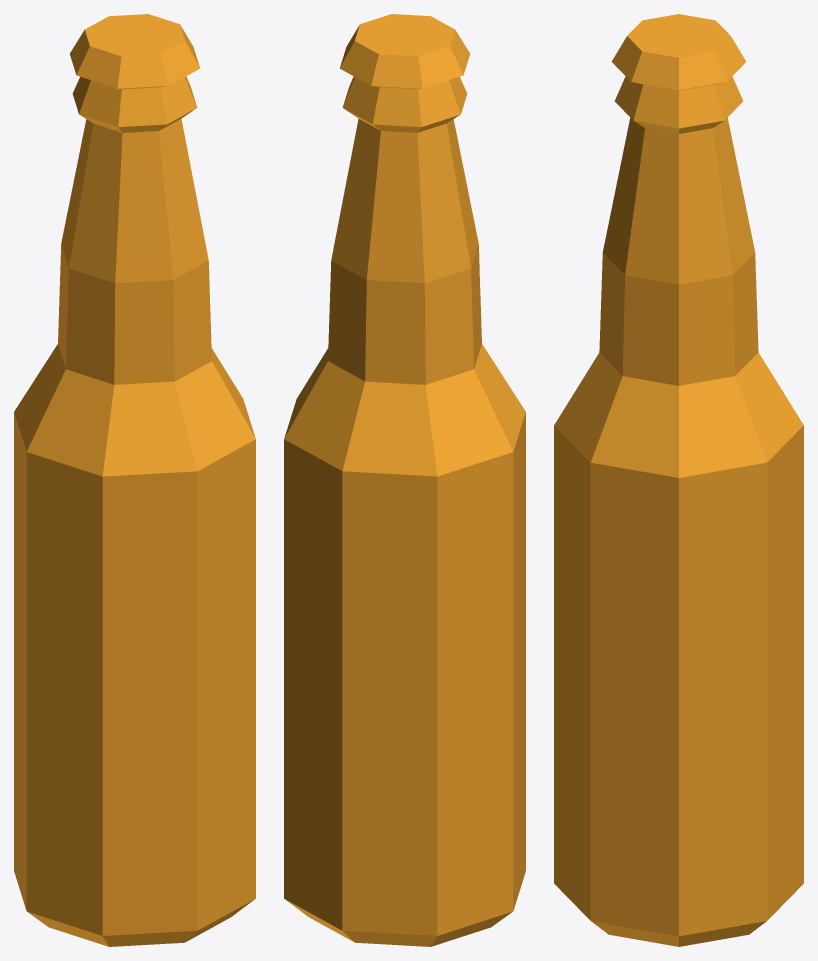
File: SM_Bottle_Beer_Full_4july_A.fbx
3 views of the same model, side by side, from view 1: azimuth 30°, elevation 25°; view 2: azimuth 150°, elevation 25°; view 3: azimuth 270°, elevation 25° (orthographic).
Visible parts, largest first — view 1: bottle-beer-full-4july-a; view 2: bottle-beer-full-4july-a; view 3: bottle-beer-full-4july-a.
Part boxes in pixels (bbox=[...]): bottle-beer-full-4july-a: bbox=[14, 14, 255, 946]; bottle-beer-full-4july-a: bbox=[284, 14, 525, 946]; bottle-beer-full-4july-a: bbox=[554, 14, 803, 946].
Bounding box in the file's own units: 0.06 × 0.2304 × 0.06.
